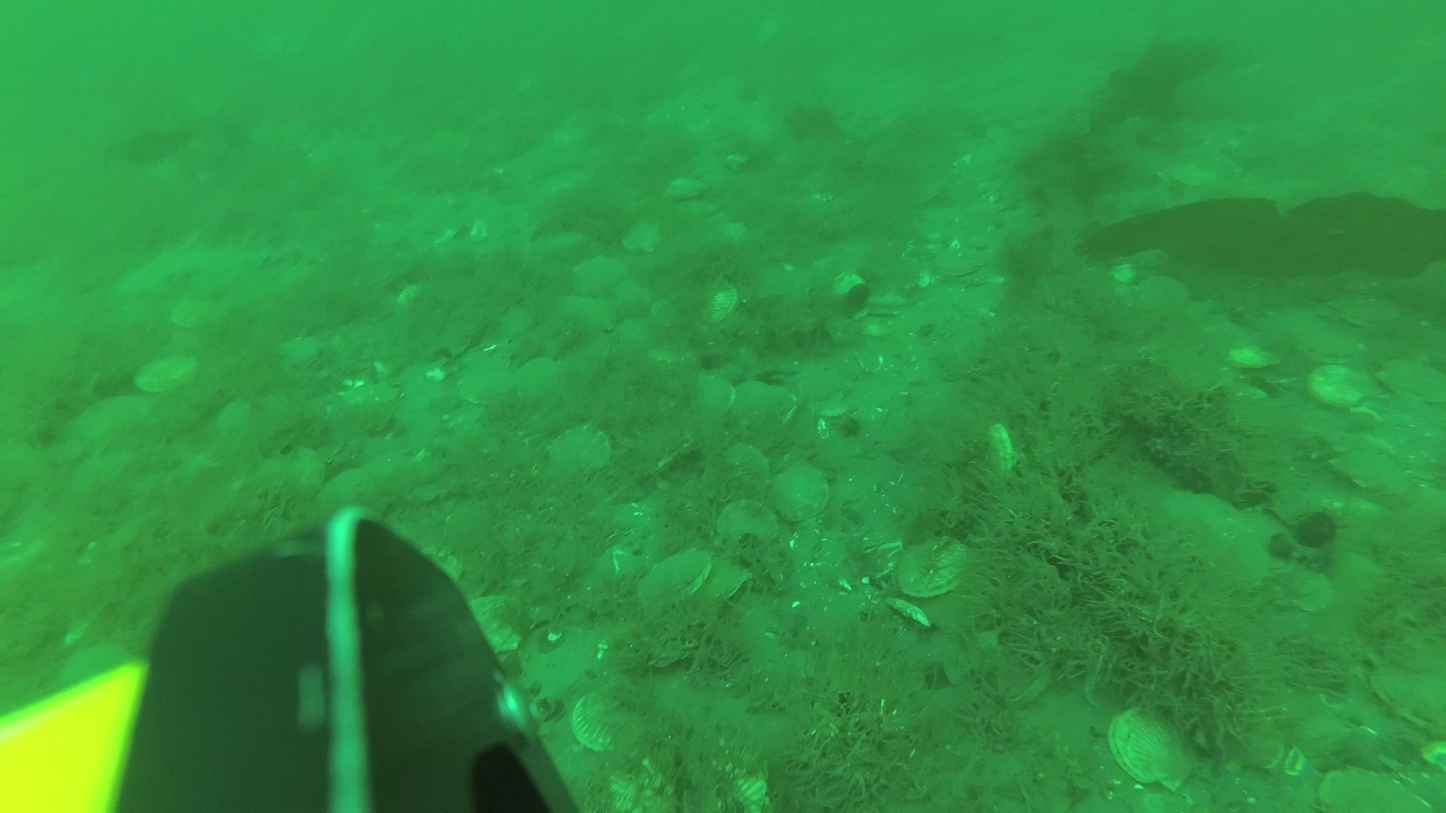scallop: (1109, 705, 1195, 789), (1376, 653, 1446, 740), (902, 537, 978, 600), (574, 688, 641, 754), (1331, 442, 1409, 498), (465, 595, 534, 655), (643, 552, 714, 606), (685, 558, 744, 619), (1308, 364, 1373, 411), (771, 465, 827, 518), (714, 501, 774, 549), (729, 381, 790, 427), (552, 427, 613, 473), (514, 359, 565, 413), (683, 375, 740, 422), (458, 357, 512, 404), (574, 254, 625, 295), (139, 355, 181, 401), (704, 279, 744, 327), (621, 219, 665, 261), (664, 169, 709, 205)
